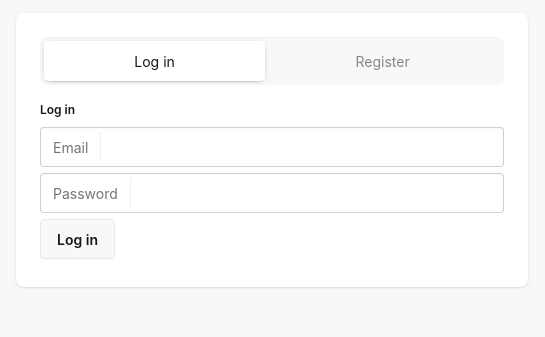
accepted registration returns to login and stores no token
Click the radio button named "Register" at (383, 61), box [265,41,500,81]
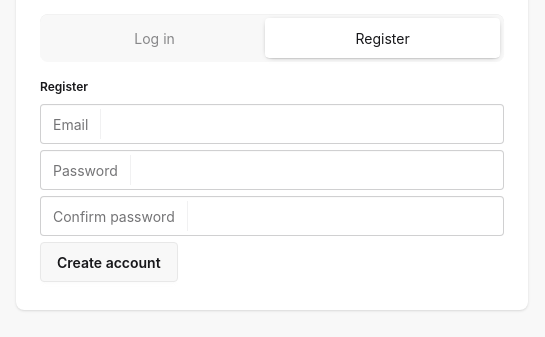
Type "ada@example.com" into the field labelled "Email" at (306, 124), box [121,105,491,143]
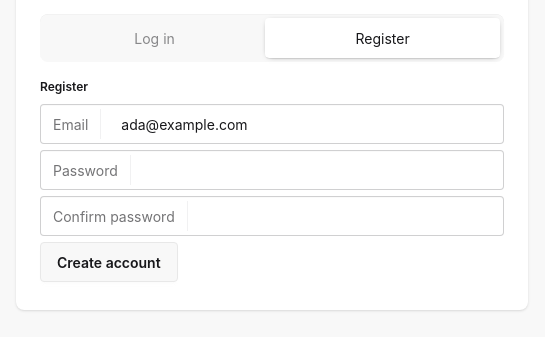
Type "s3cret" into the password field labelled "Password" at (321, 170), box [151,151,491,189]
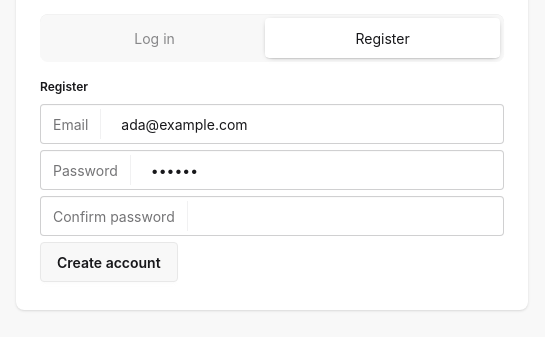
Type "s3cret" into the password field labelled "Confirm password" at (349, 216), box [208,197,491,235]
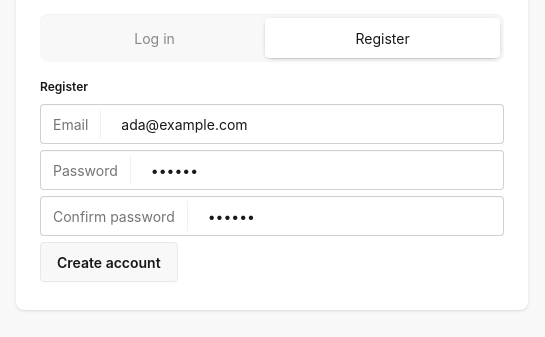
Click the button "Create account" at (109, 262), box [40,242,178,282]
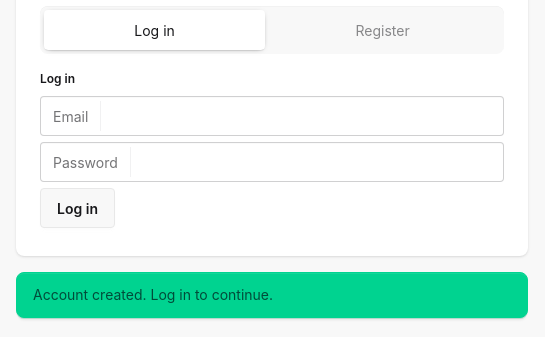
Now the button "Log in" is shown, box [40,188,115,228]
Now the text labelled "Confirm password" is gone
